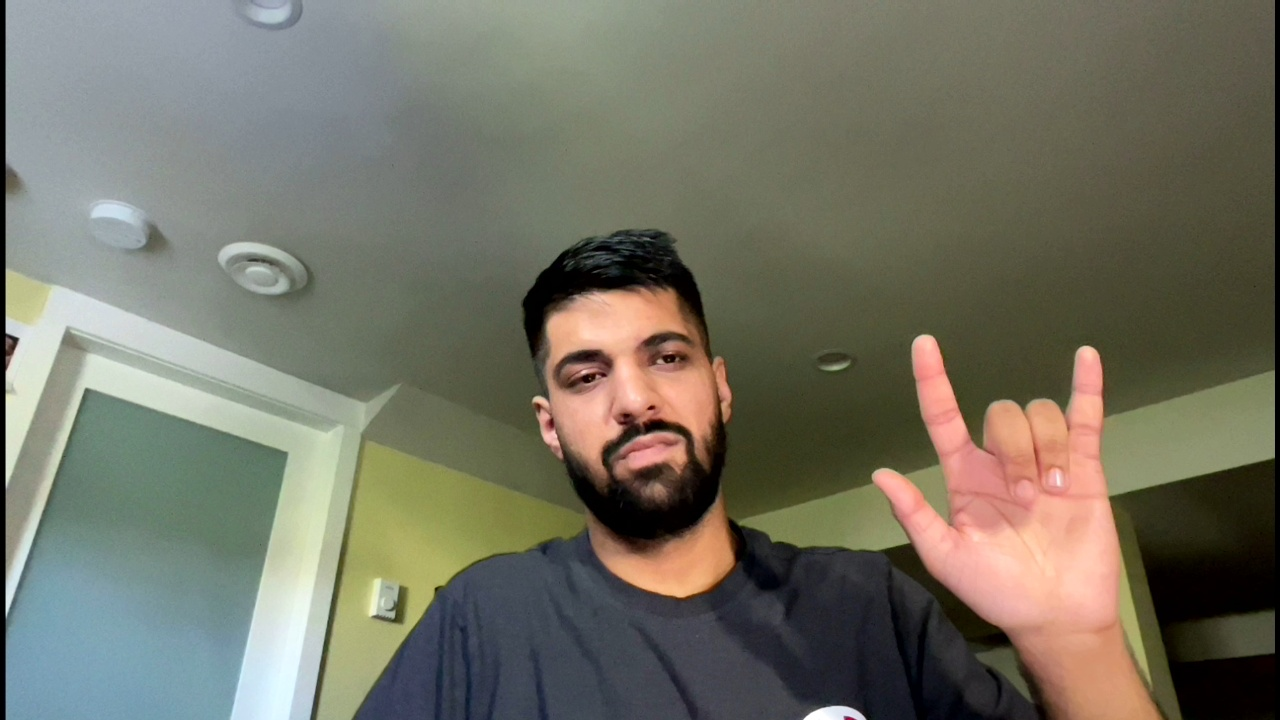HowYouDoing!: (868, 323, 1164, 629)
